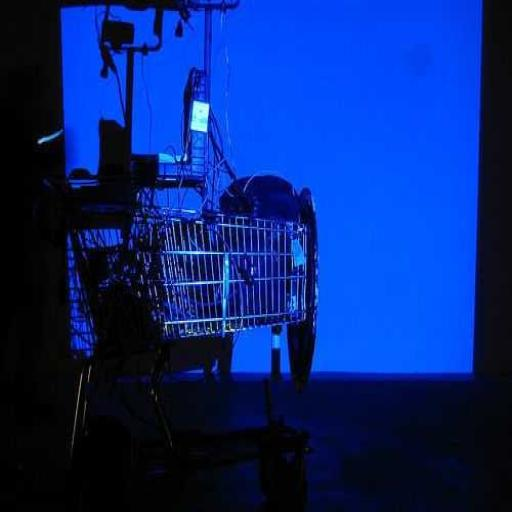shopping_cart: (74, 208, 310, 346)
